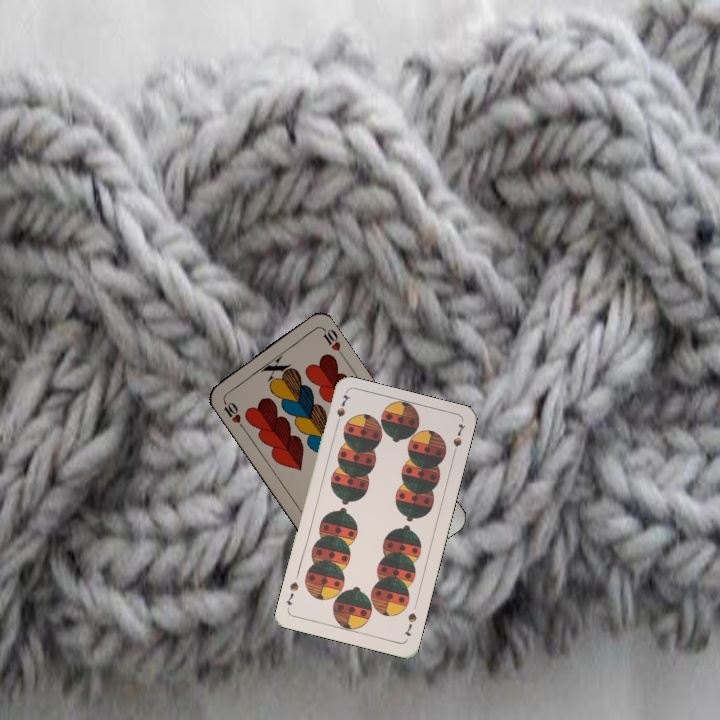H10: (219, 394, 246, 431)
S7: (331, 390, 353, 430), (400, 608, 419, 639)
